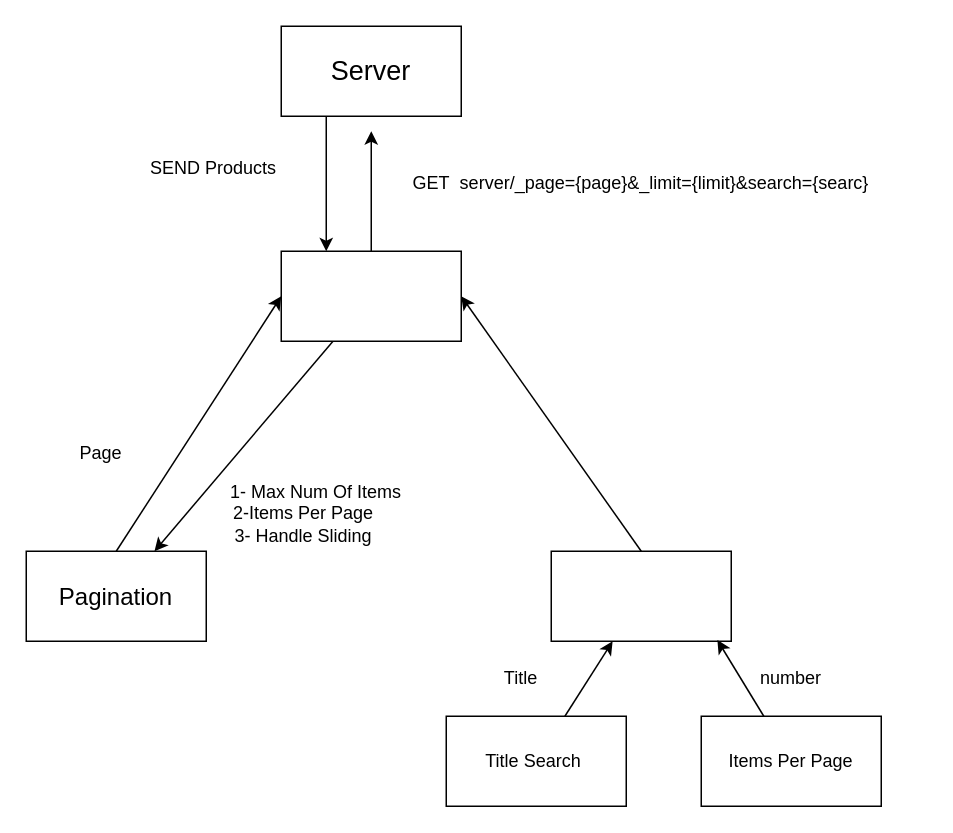
Image size: 953x833. Some labels were removed from this diagram. Here are the shapes that lost their labels. From the top down, the centre of each, then its label:
At (370,295): "Shop".
At (640,595): "Search Form".
